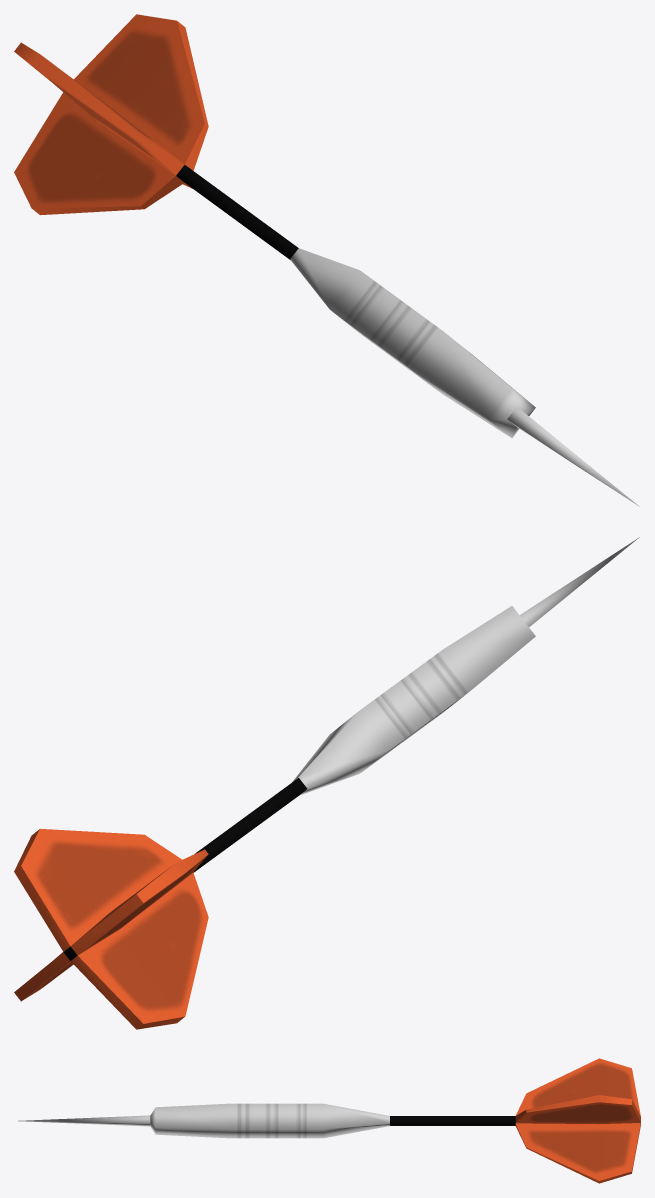
The model's file is dart.fbx.
The picture shows the model from 3 angles, top to bottom: view 1: azimuth 30°, elevation 25°; view 2: azimuth 150°, elevation 25°; view 3: azimuth 270°, elevation 25°; orthographic projection. The views are drawn at different scales.
Visible parts, largest first — view 1: dart; view 2: dart; view 3: dart.
Boxes of the visible parts, x1,y1,x2,y2 form: dart: (14,14,639,506); dart: (14,537,639,1029); dart: (18,1058,640,1183).
Bounding box in the file's own units: 0.00183 × 0.00183 × 0.0117.
